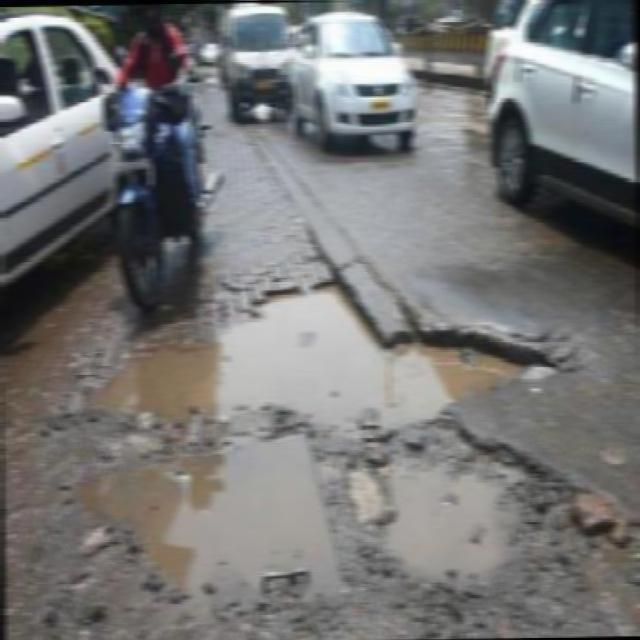Pothole: (19, 259, 612, 435), (40, 420, 361, 627), (324, 414, 636, 590)
